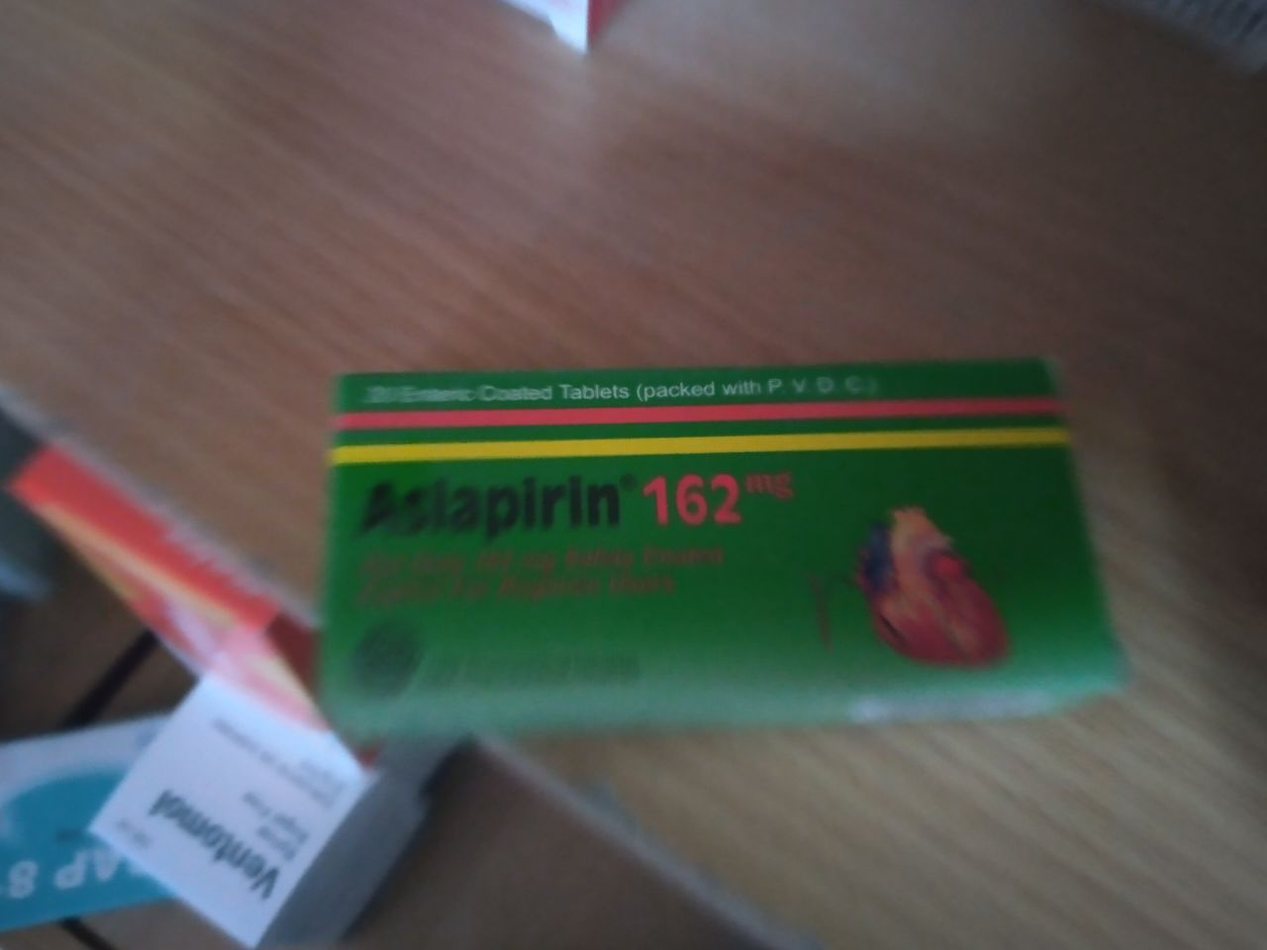Medicine: (319, 354, 1136, 722)
